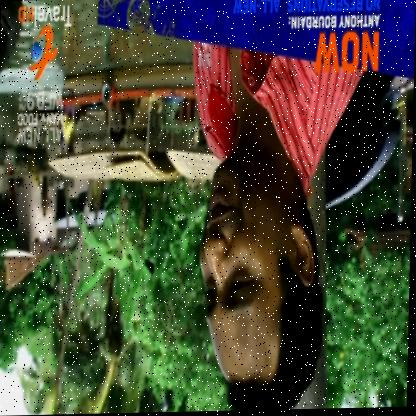streamer: (187, 39, 366, 413)
